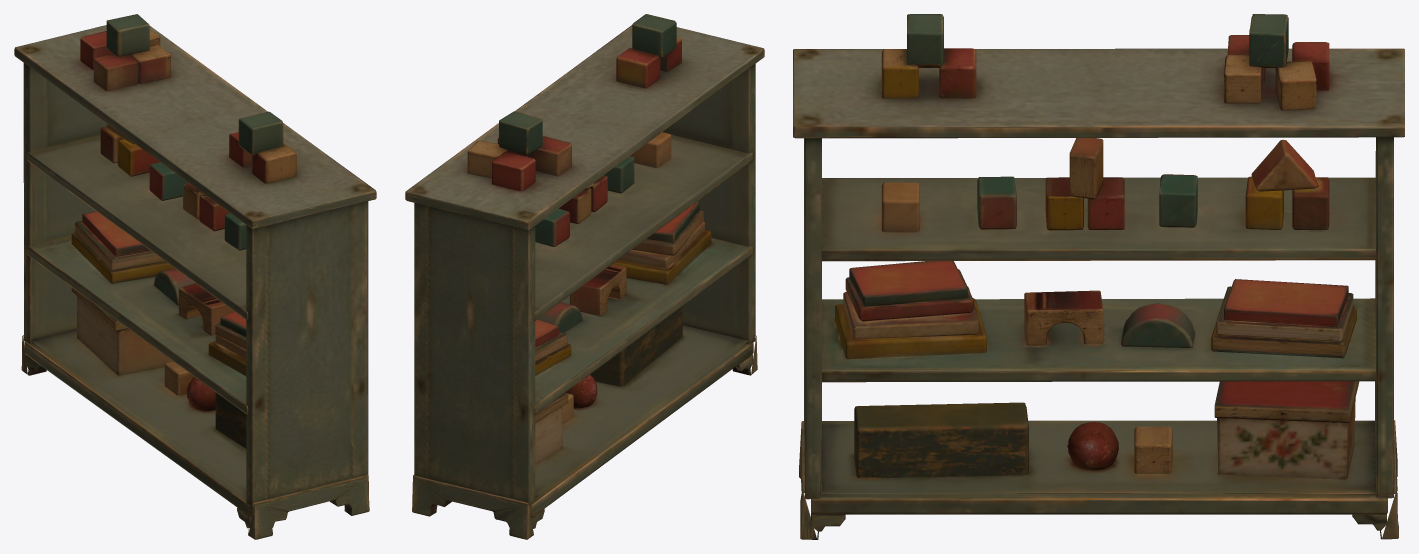
3 views of the same model, side by side, from view 1: azimuth 30°, elevation 25°; view 2: azimuth 150°, elevation 25°; view 3: azimuth 270°, elevation 25° (orthographic). The views are drawn at different scales.
Visible parts, largest first — view 1: tripo_node_dcd13c22-06ee-440d-9236-dff5320bd822; view 2: tripo_node_dcd13c22-06ee-440d-9236-dff5320bd822; view 3: tripo_node_dcd13c22-06ee-440d-9236-dff5320bd822.
Part boxes in pixels (x1,y1,x2,y2): tripo_node_dcd13c22-06ee-440d-9236-dff5320bd822: (14, 14, 376, 539); tripo_node_dcd13c22-06ee-440d-9236-dff5320bd822: (405, 14, 764, 539); tripo_node_dcd13c22-06ee-440d-9236-dff5320bd822: (793, 14, 1404, 539).
Bounding box in the file's own units: 0.3066 × 0.8613 × 0.998.
1 material, 1 textured.
